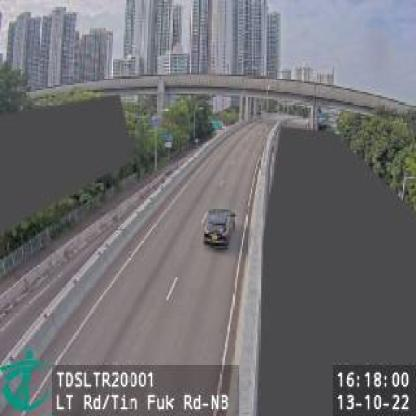Car: (203, 206, 237, 250)
